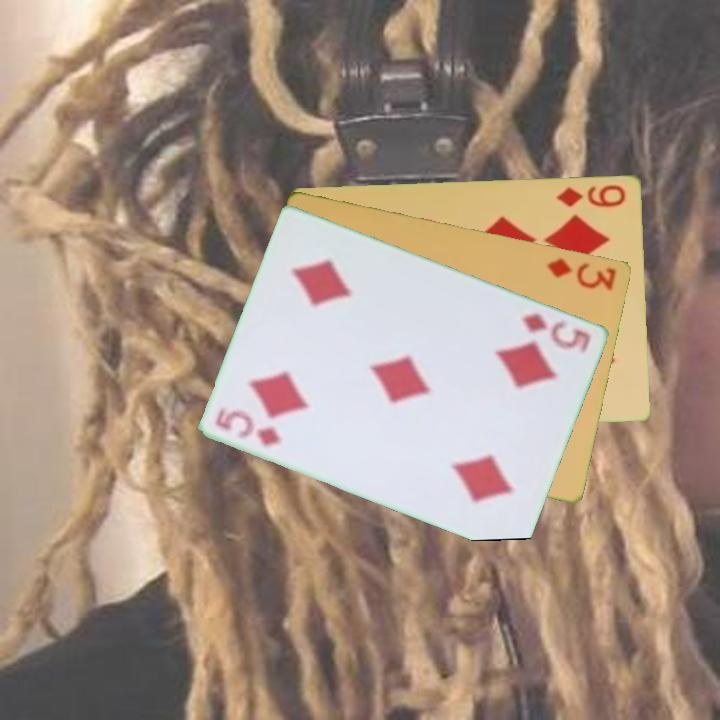3d: (543, 254, 620, 293)
5d: (518, 308, 594, 356), (212, 403, 285, 450)
9d: (554, 181, 629, 210)
